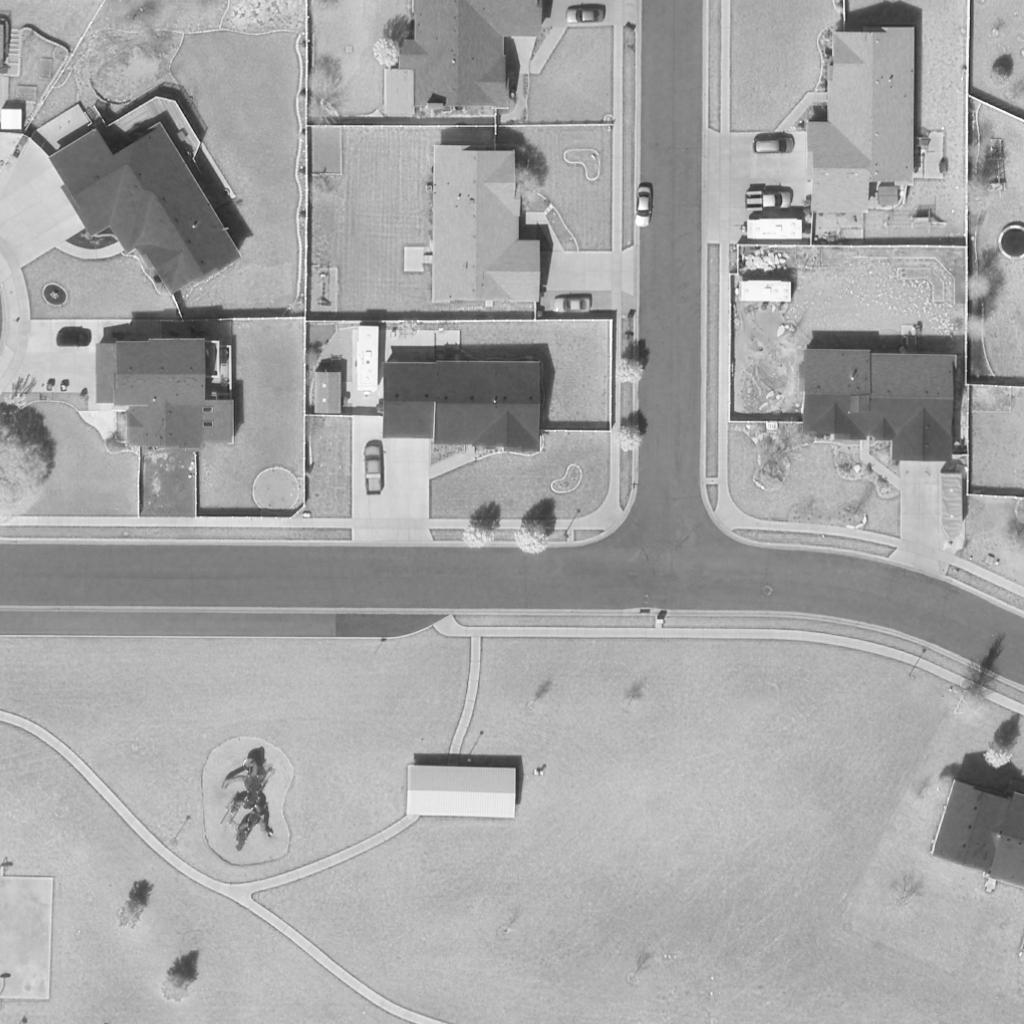vehicle: (355, 325, 381, 399), (736, 279, 794, 303), (744, 220, 804, 240), (363, 443, 383, 497), (633, 184, 657, 228), (744, 192, 794, 210), (551, 294, 595, 314), (754, 135, 796, 155), (563, 6, 609, 24), (57, 332, 91, 346)
